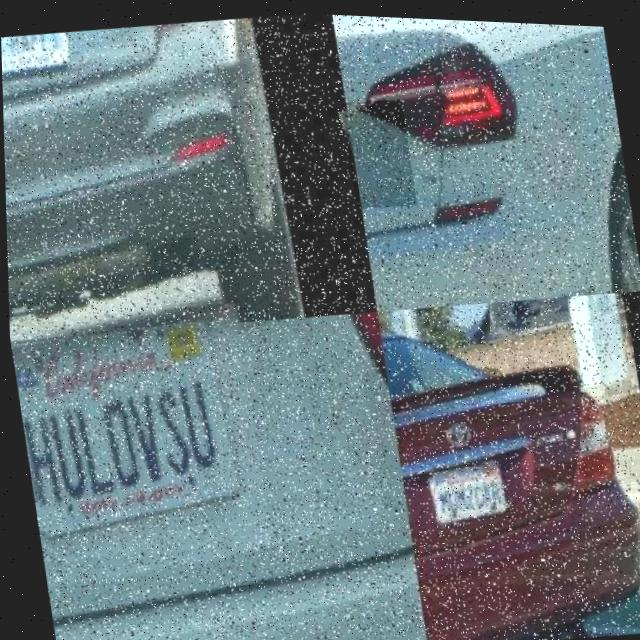LicensePlate: (7, 308, 269, 568), (340, 92, 416, 208), (1, 27, 83, 96), (430, 458, 509, 521)
